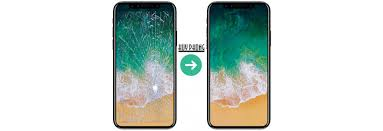iphone: (206, 1, 272, 128), (112, 2, 178, 129)
iphone10: (205, 1, 271, 128), (112, 1, 178, 127)
